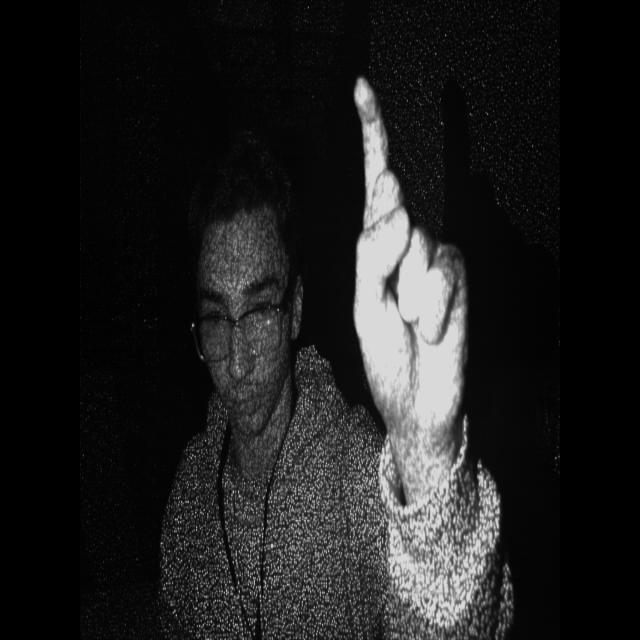X: (333, 51, 488, 465)
